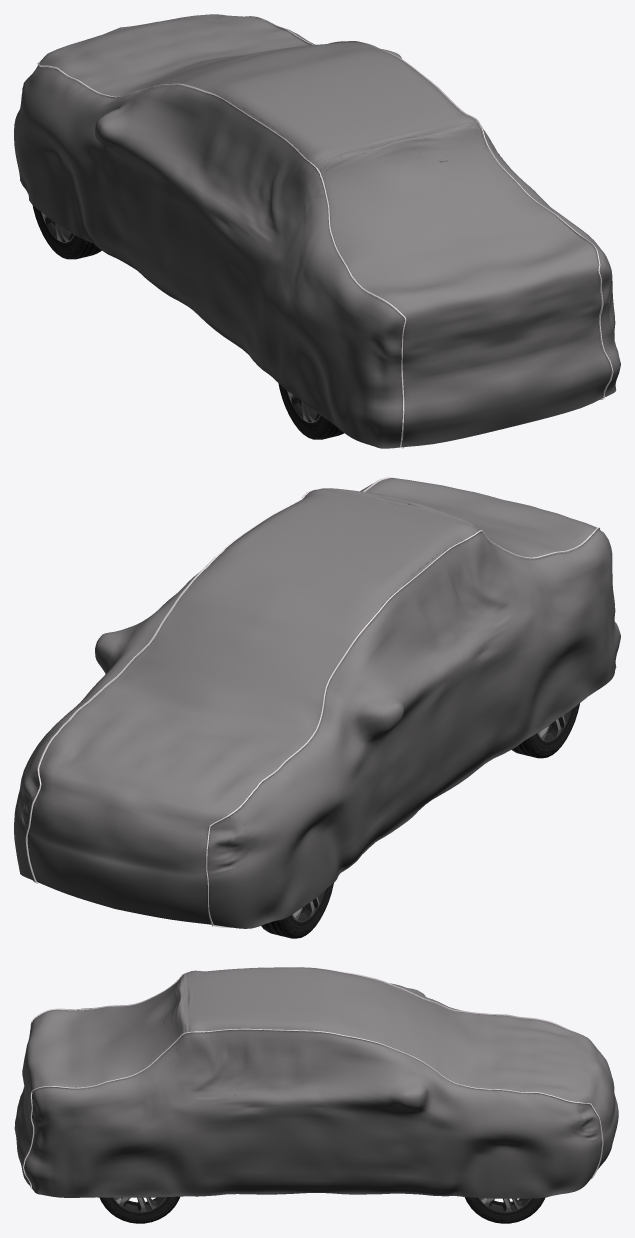
File: caminhonete.glb
3 renders of one model, top to bottom at view 1: azimuth 30°, elevation 25°; view 2: azimuth 150°, elevation 25°; view 3: azimuth 270°, elevation 25°, orthographic. The views are drawn at different scales.
Parts seen in each view (by area): view 1: CAPA, RODA, LINHA; view 2: CAPA, RODA, LINHA; view 3: CAPA, RODA, LINHA.
Boxes of the visible parts, <box> form: CAPA: <box>14,14,620,448</box>; RODA: <box>32,205,344,439</box>; LINHA: <box>37,16,613,448</box>; CAPA: <box>14,478,620,928</box>; RODA: <box>261,703,579,938</box>; LINHA: <box>25,477,599,927</box>; CAPA: <box>14,967,618,1198</box>; RODA: <box>100,1190,544,1223</box>; LINHA: <box>22,967,603,1188</box>.
Bounding box in the file's own units: 2.37 × 1.87 × 5.56.
Materials: 6 (5 with a texture image).
